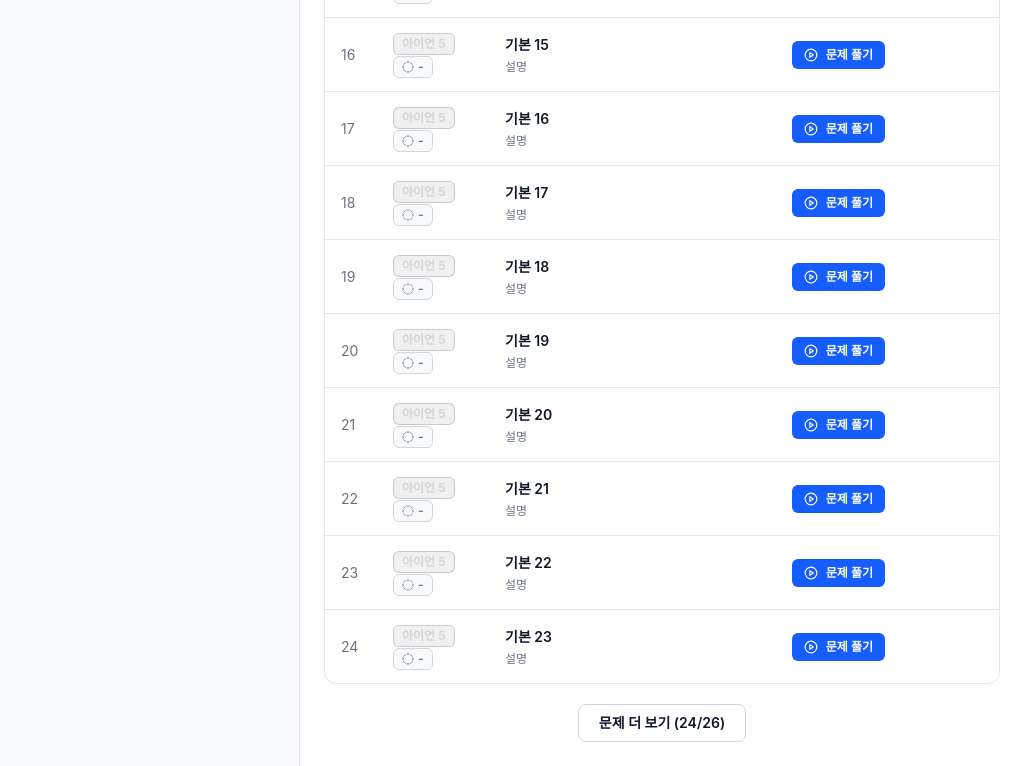
it: Challenges paginated filters › appends a normal next page of unique items and updates the total
(page scrolled)
Click the button "문제 더 보기 (24/26)" at coordinates (662, 723), box [578,704,746,742]
(page scrolled)
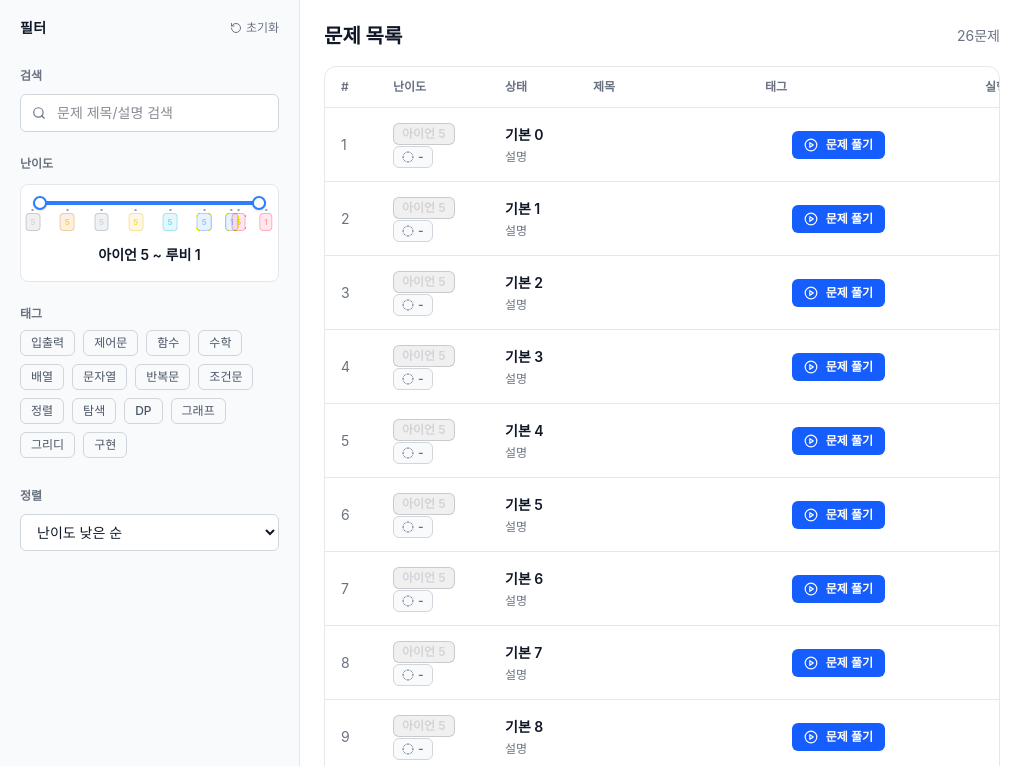
Expected: the text "26문제" is shown, [957,26,1000,46]
Expected: the number of headings "기본 0" is 1, [505,126,544,142]
Expected: the button "문제 더 보기" is gone
